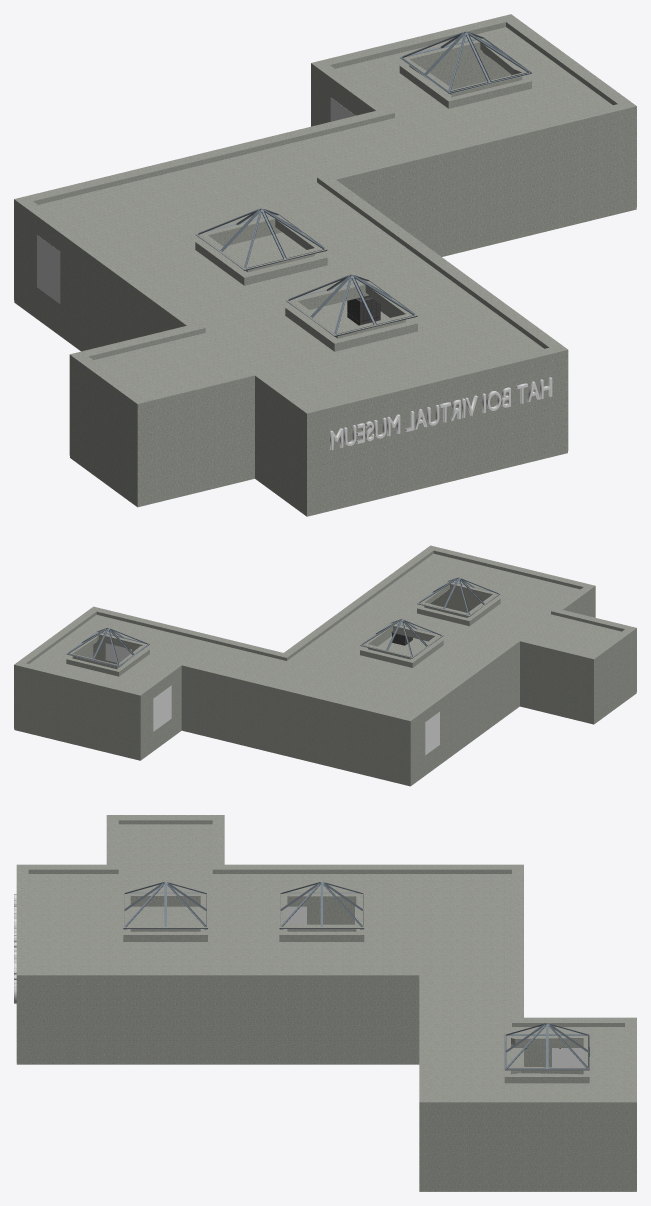
The model's file is Optimize20.glb.
The picture shows the model from 3 angles, top to bottom: view 1: azimuth 30°, elevation 25°; view 2: azimuth 150°, elevation 25°; view 3: azimuth 270°, elevation 25°; orthographic projection. The views are drawn at different scales.
Parts seen in each view (by area): view 1: Chair, Text, Floor, PictureFrame.012; view 2: Chair, PictureFrame.008, PictureFrame.012, Floor, ImageMesh.008; view 3: Chair, Floor, ImageMesh.009.
Boxes of the visible parts, x1,y1,x2,y2 form: Chair: (14, 14, 636, 516); Text: (330, 377, 552, 450); Floor: (226, 232, 389, 330); PictureFrame.012: (37, 235, 60, 303); Chair: (14, 545, 636, 786); PictureFrame.008: (153, 685, 171, 731); PictureFrame.012: (425, 712, 439, 755); Floor: (378, 636, 427, 654); ImageMesh.008: (105, 643, 131, 662); Chair: (16, 815, 636, 1191); Floor: (130, 906, 523, 1067); ImageMesh.009: (552, 1048, 583, 1067).
Bounding box in the file's own units: 27.04 × 5.64 × 24.79.
Materials: 10 (6 with a texture image).
